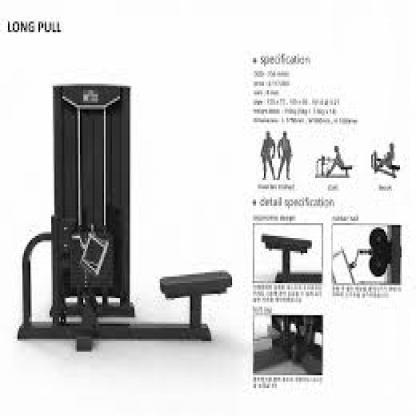Seated Cable Rows: (15, 72, 240, 367)
